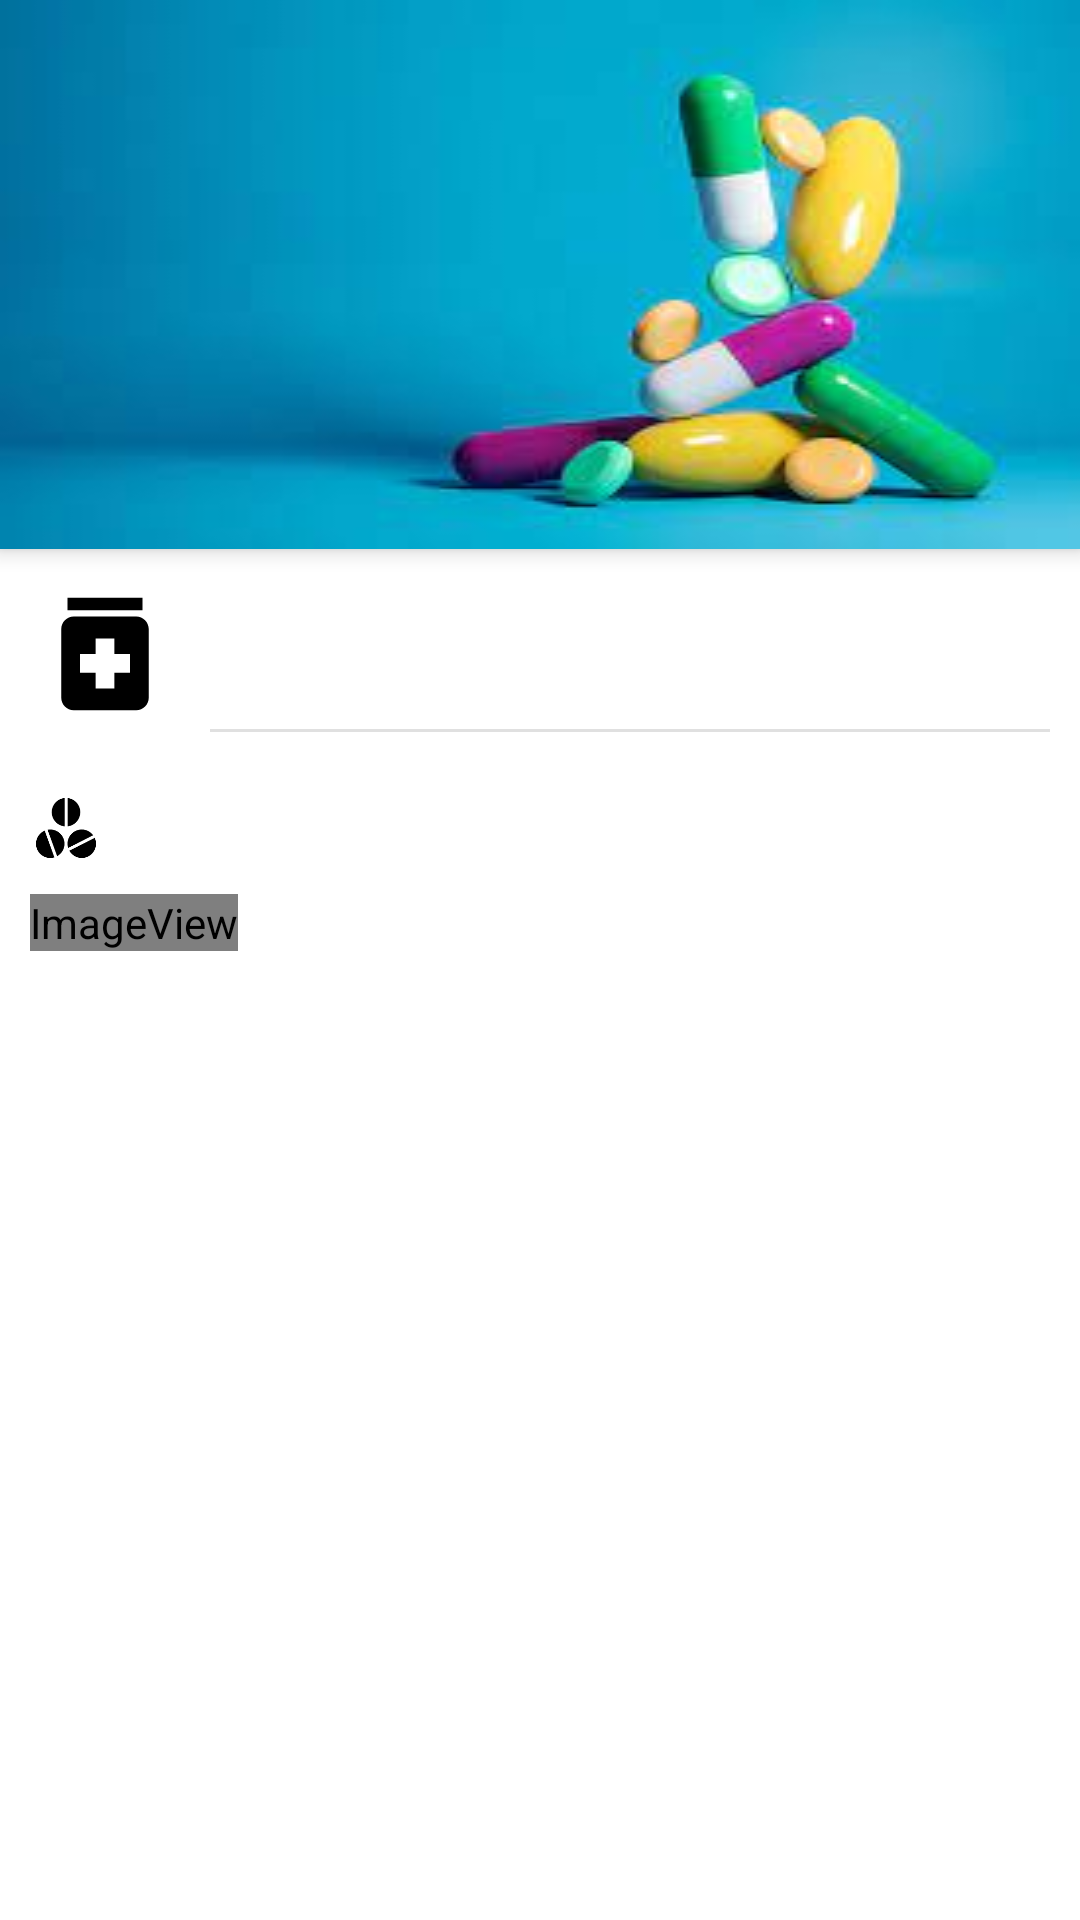

Locate icon controls on the screen. Image size 1080px x 1920px, boxes as (x1, y1, x2, y2).
medication: (61, 597, 149, 711)
pills: (36, 798, 96, 858)
